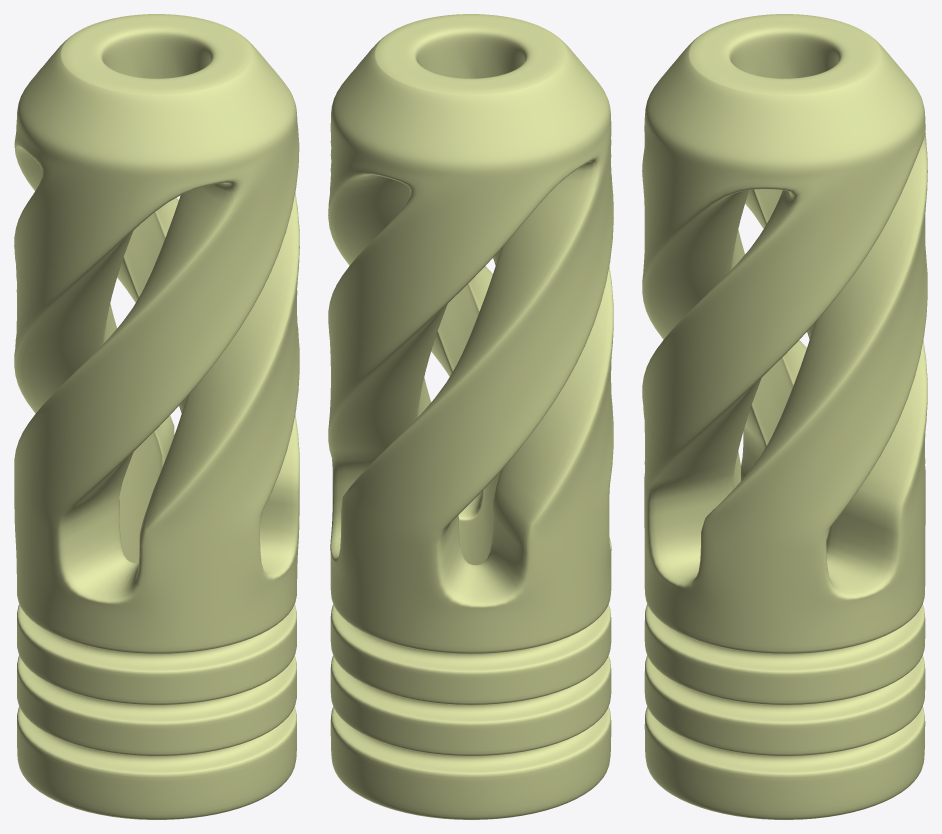
The model's file is luosi.gltf.
3 views of the same model, side by side, from view 1: azimuth 30°, elevation 25°; view 2: azimuth 150°, elevation 25°; view 3: azimuth 270°, elevation 25° (orthographic).
Visible parts, largest first — view 1: 柱体; view 2: 柱体; view 3: 柱体.
Boxes of the visible parts, x1,y1,x2,y2 form: 柱体: [14, 14, 299, 819]; 柱体: [328, 14, 613, 819]; 柱体: [642, 14, 927, 819].
Bounding box in the file's own units: 1.99 × 5.45 × 1.99.
